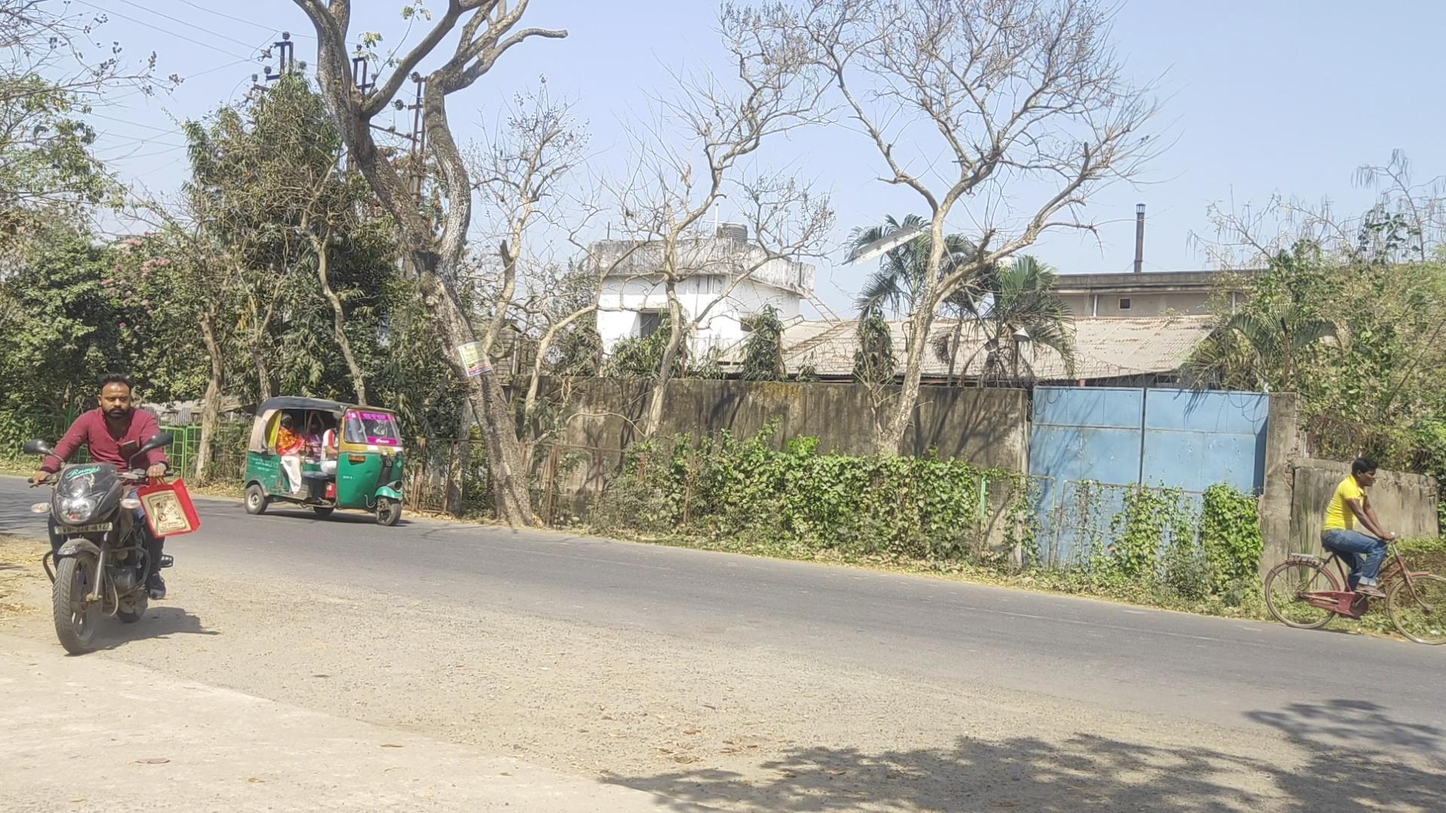Auto: (240, 397, 408, 525)
bike: (21, 377, 194, 655), (1264, 458, 1446, 644)
